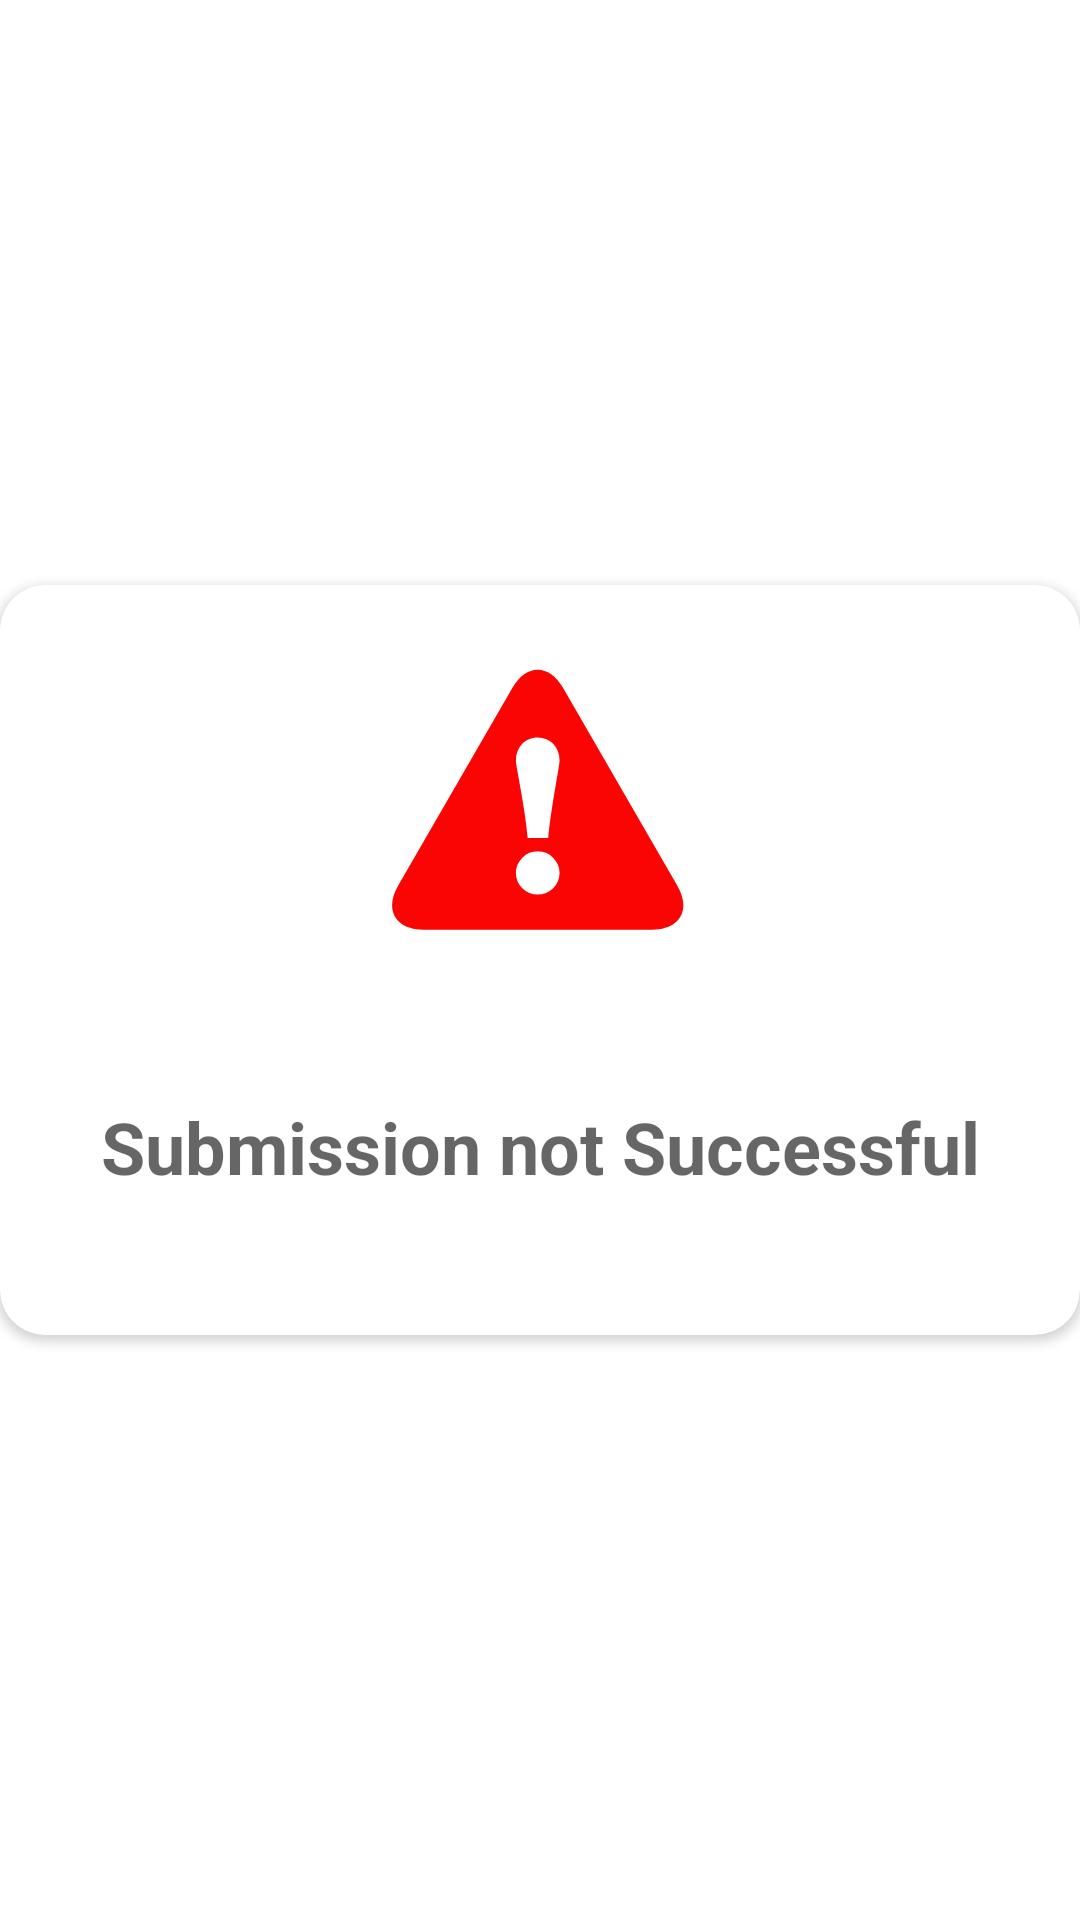

Point at icon controls on the screen. Image size 1080×1920, points as point (x, y).
error: point (538, 799)
